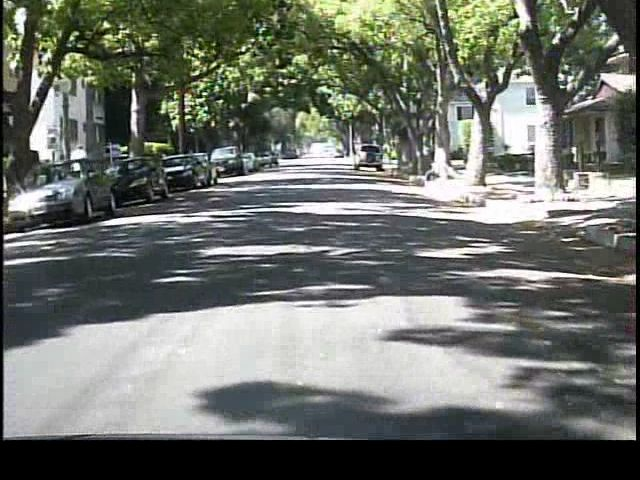person: (69, 142, 95, 198)
